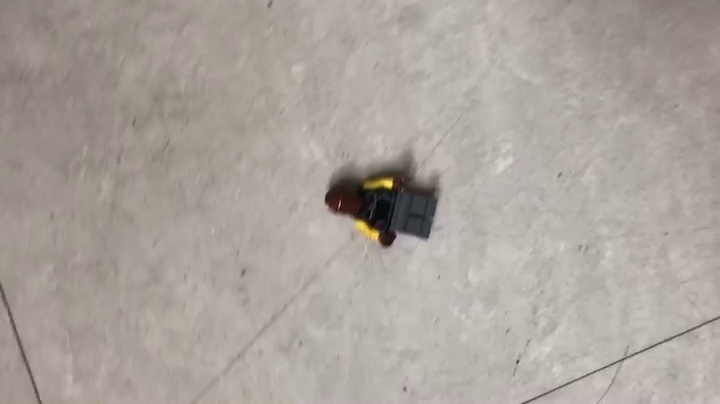people: (324, 174, 440, 249)
